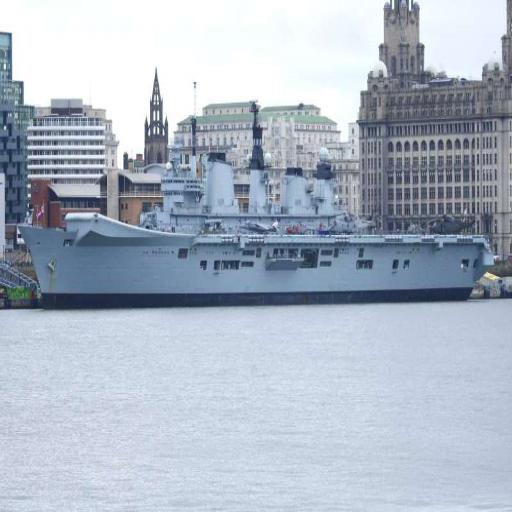Portanaves: (16, 96, 500, 310)
